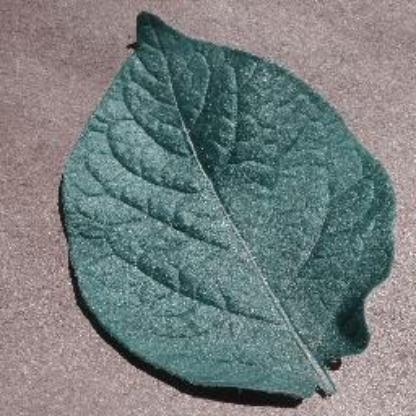Healthy-plant: (12, 7, 404, 401)
